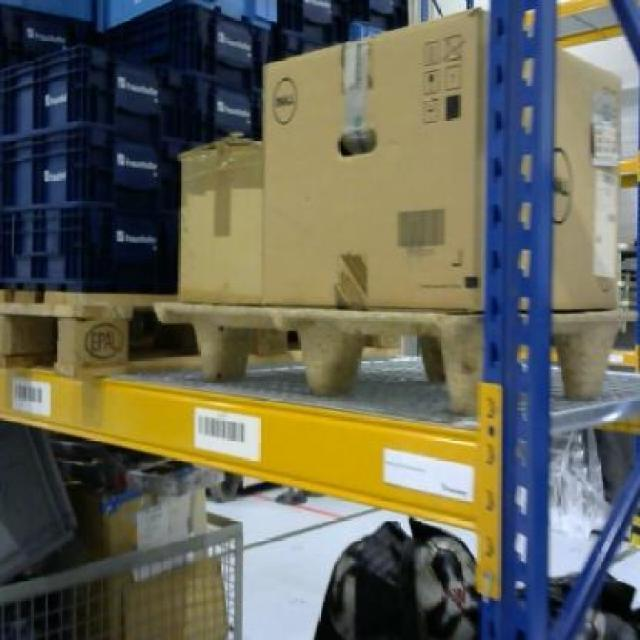box: (259, 8, 619, 308), (174, 133, 263, 304)
